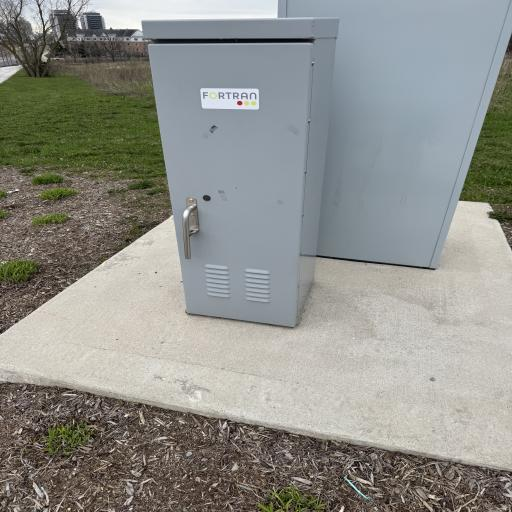Electrical Box: (277, 0, 512, 270), (142, 16, 342, 324)
